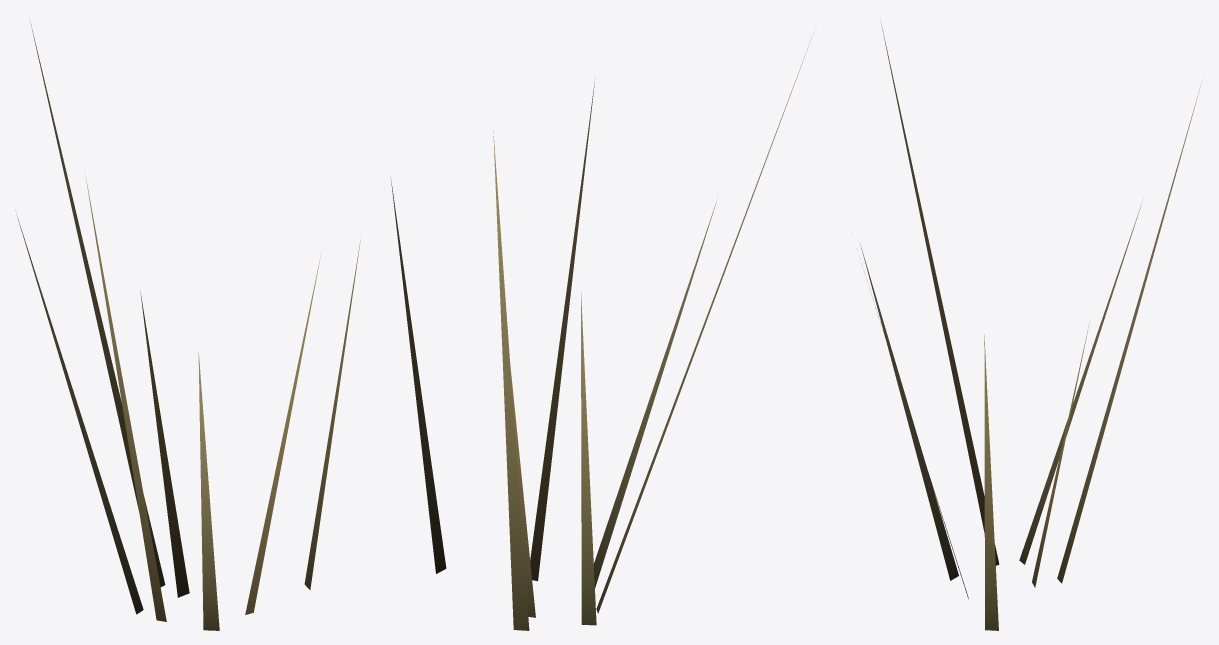
File: grass-dry-a.lod2.glb
The picture shows the model from 3 angles, left to right: view 1: azimuth 30°, elevation 25°; view 2: azimuth 150°, elevation 25°; view 3: azimuth 270°, elevation 25°; orthographic projection. The views are drawn at different scales.
Bounding box in the file's own units: 0.5847 × 0.8885 × 0.5858.
